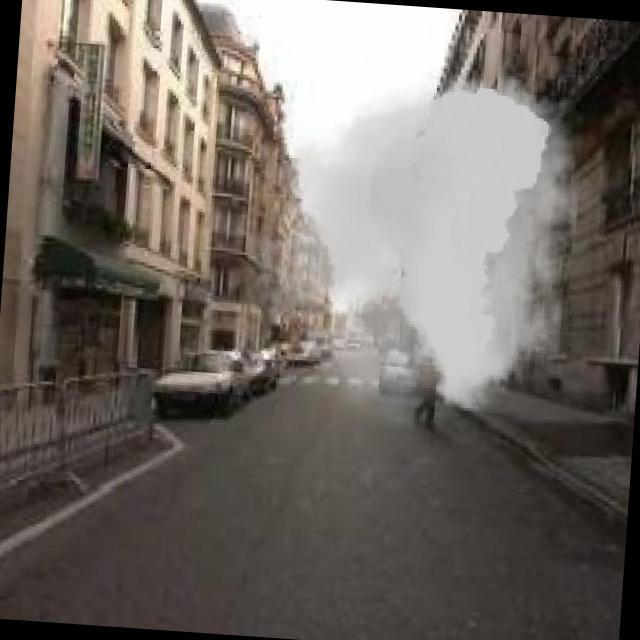Smoke: (219, 45, 615, 442)
